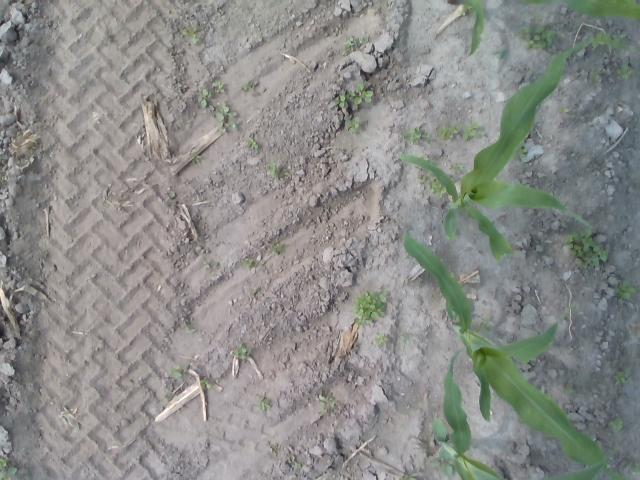Maize: (402, 227, 640, 480), (401, 39, 635, 262), (430, 348, 610, 480), (449, 0, 640, 60)
Weeds: (564, 228, 608, 269), (352, 288, 388, 326), (518, 26, 556, 50), (216, 101, 240, 133), (432, 448, 456, 479), (346, 82, 374, 104), (462, 120, 486, 140), (318, 393, 338, 415), (400, 126, 423, 145), (429, 176, 448, 199), (614, 280, 638, 298), (0, 457, 18, 480), (589, 30, 611, 48), (436, 124, 460, 140), (232, 342, 252, 360), (182, 26, 200, 46), (168, 363, 188, 380), (613, 368, 631, 385), (475, 316, 491, 334), (197, 88, 211, 108), (512, 143, 528, 160), (459, 2, 477, 17), (617, 64, 635, 78), (607, 417, 622, 432), (346, 116, 360, 132), (414, 156, 430, 170), (270, 242, 287, 255), (588, 69, 604, 82), (266, 161, 278, 178), (374, 332, 388, 346), (491, 46, 506, 59), (245, 136, 259, 149), (257, 398, 270, 411), (334, 94, 346, 108), (199, 378, 213, 390), (212, 80, 224, 94), (628, 460, 640, 474), (344, 36, 356, 48), (241, 80, 254, 91), (183, 322, 197, 332), (450, 163, 462, 174), (612, 33, 628, 41), (417, 174, 429, 184), (242, 258, 254, 268), (278, 168, 290, 178), (402, 472, 416, 480), (564, 384, 576, 393), (191, 154, 201, 164), (201, 259, 211, 269), (161, 395, 173, 403), (402, 332, 410, 344), (422, 133, 432, 142), (358, 36, 369, 44), (292, 461, 302, 469), (560, 106, 569, 114), (250, 286, 258, 294), (168, 191, 176, 198), (258, 259, 264, 265)
